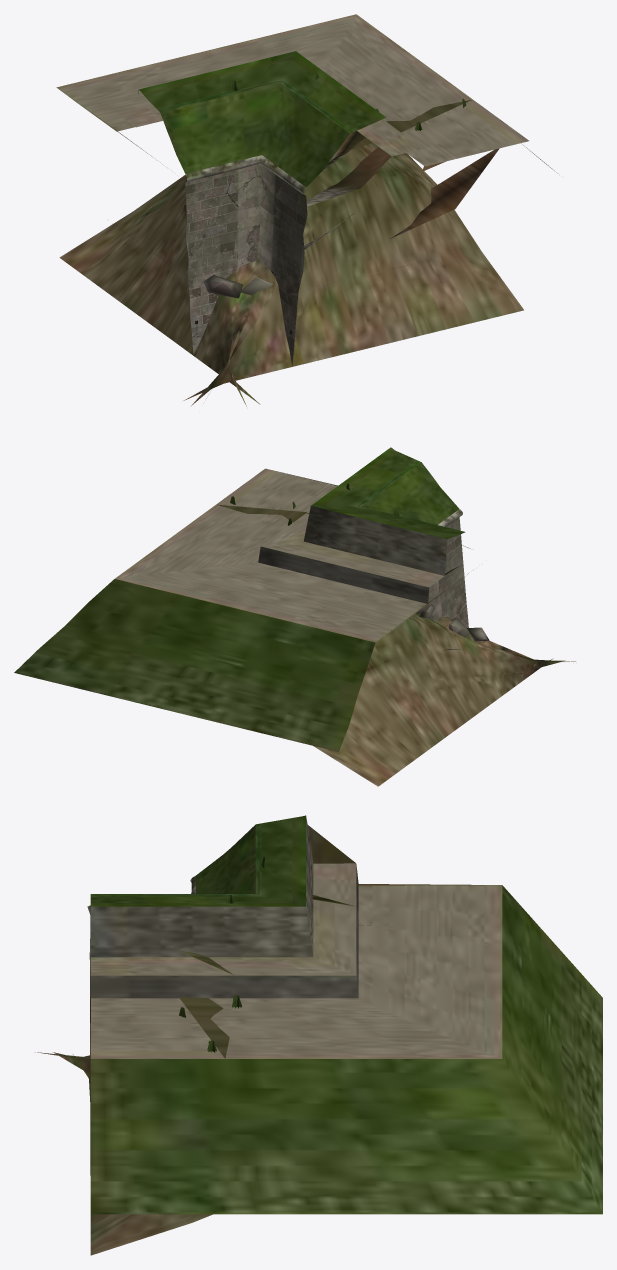
Rendered from starfort_flank_junction_live.glb.
3 renders of one model, top to bottom at view 1: azimuth 30°, elevation 25°; view 2: azimuth 150°, elevation 25°; view 3: azimuth 270°, elevation 25°, orthographic. The views are drawn at different scales.
Visible parts, largest first — view 1: breached, intact, cracked; view 2: cracked, breached, intact; view 3: intact, cracked, breached, endcap_a.
Part boxes in pixels (bbox=[...]): breached: bbox=[59, 60, 557, 406]; intact: bbox=[57, 14, 497, 365]; cracked: bbox=[57, 14, 490, 363]; cracked: bbox=[14, 455, 466, 750]; breached: bbox=[189, 457, 575, 786]; intact: bbox=[67, 448, 466, 751]; intact: bbox=[90, 815, 602, 1214]; cracked: bbox=[90, 816, 602, 1214]; breached: bbox=[35, 818, 602, 1255]; endcap_a: bbox=[190, 815, 483, 885].
Size of what is drawn, in the model's own units: 12.3 by 6.38 by 12.3.
Materials: 2 (2 with a texture image).
